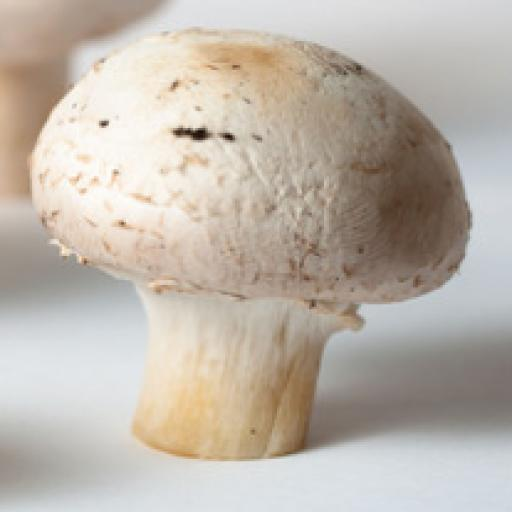Button Mushroom: (35, 25, 478, 473)
